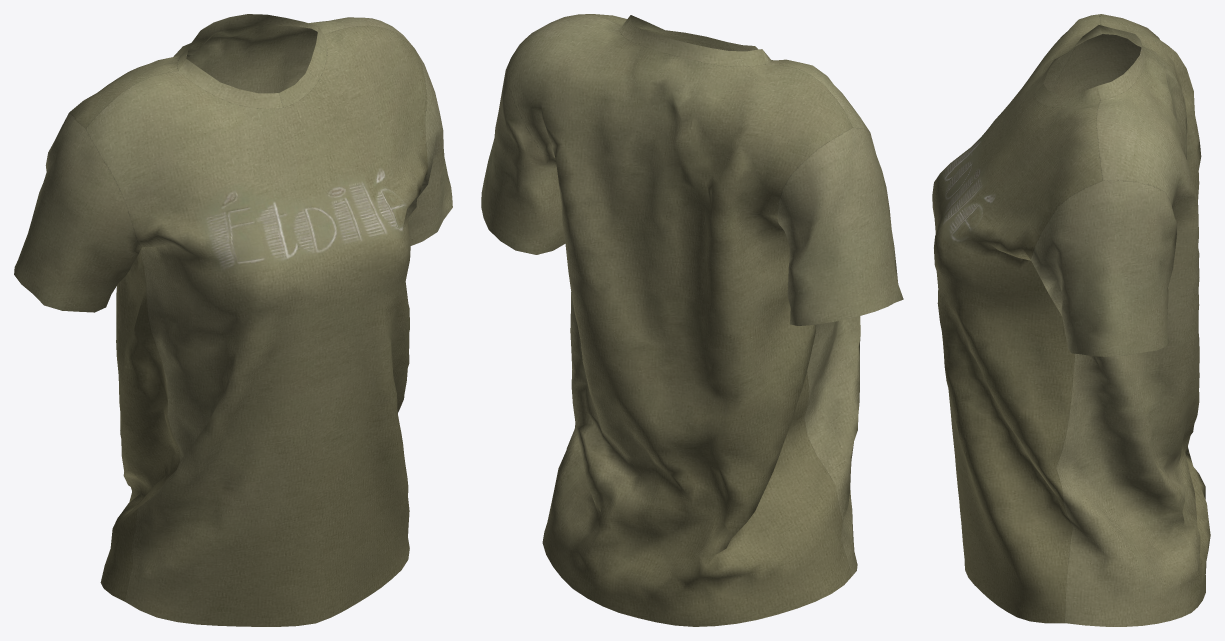
Rendered from 139624 ONLJENKA REG.fbx.
The picture shows the model from 3 angles, left to right: view 1: azimuth 30°, elevation 25°; view 2: azimuth 150°, elevation 25°; view 3: azimuth 270°, elevation 25°; orthographic projection. The views are drawn at different scales.
Parts seen in each view (by area): view 1: 139624 ONLJENKA REG; view 2: 139624 ONLJENKA REG; view 3: 139624 ONLJENKA REG.
Part boxes in pixels (x1,y1,x2,y2): 139624 ONLJENKA REG: [14, 14, 452, 626]; 139624 ONLJENKA REG: [481, 14, 903, 626]; 139624 ONLJENKA REG: [932, 14, 1210, 626].
Bounding box in the file's own units: 45.58 × 57.52 × 27.05.
1 material, 1 textured.
